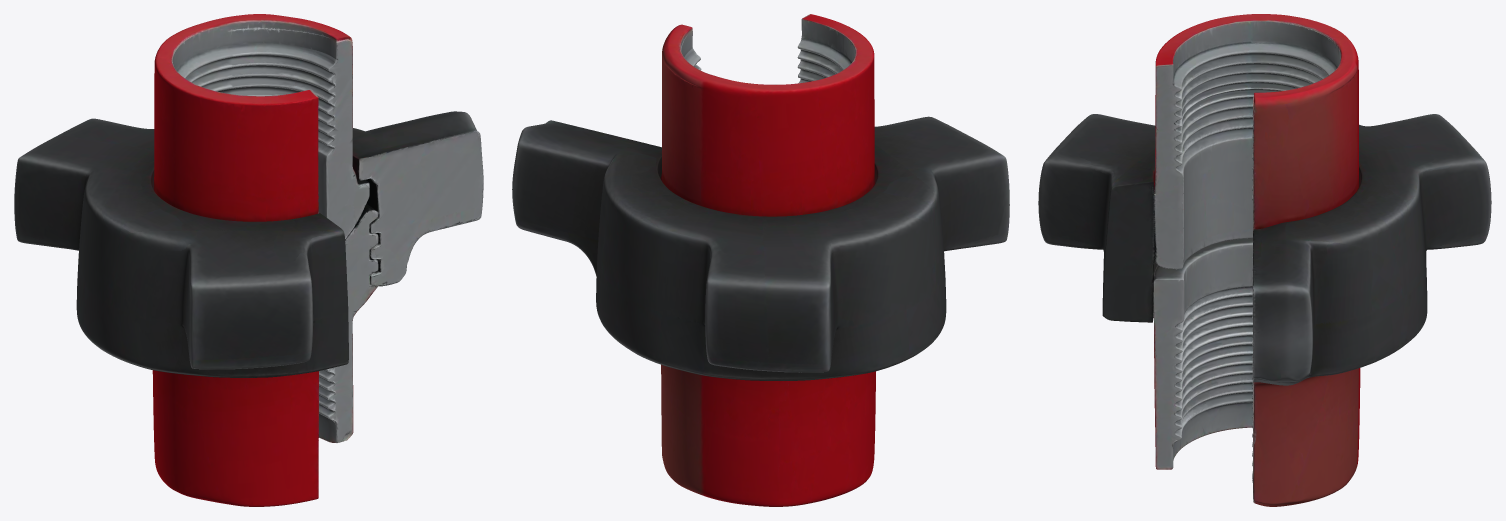
Rendered from UnionDeGolpeFigura400.glb.
3 renders of one model, left to right at view 1: azimuth 30°, elevation 25°; view 2: azimuth 150°, elevation 25°; view 3: azimuth 270°, elevation 25°, orthographic.
Visible parts, largest first — view 1: tripo_node_60673737-9b81-4b83-853d-1d65f10eef2b; view 2: tripo_node_60673737-9b81-4b83-853d-1d65f10eef2b; view 3: tripo_node_60673737-9b81-4b83-853d-1d65f10eef2b.
Boxes of the visible parts, bbox=[...] form: tripo_node_60673737-9b81-4b83-853d-1d65f10eef2b: bbox=[14, 14, 483, 506]; tripo_node_60673737-9b81-4b83-853d-1d65f10eef2b: bbox=[512, 14, 1009, 506]; tripo_node_60673737-9b81-4b83-853d-1d65f10eef2b: bbox=[1038, 14, 1491, 506].
Size of the model in its own units: 0.9774 by 0.9804 by 0.9803.
1 material, 1 textured.
